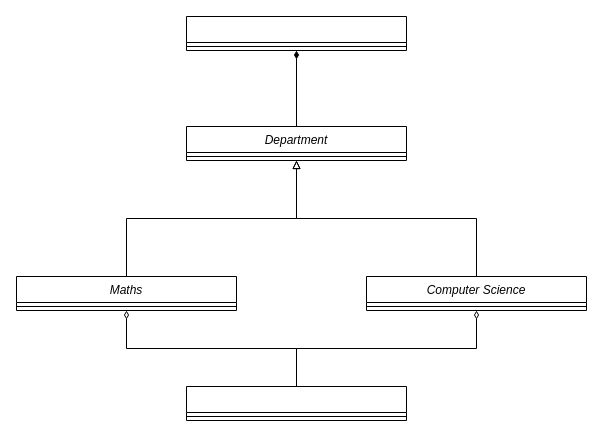
This 603x437 diagram has some shape labels left out. Each missing label, with the centre of its shape:
"School" goes at [296,33].
"Teacher" goes at [296,403].
